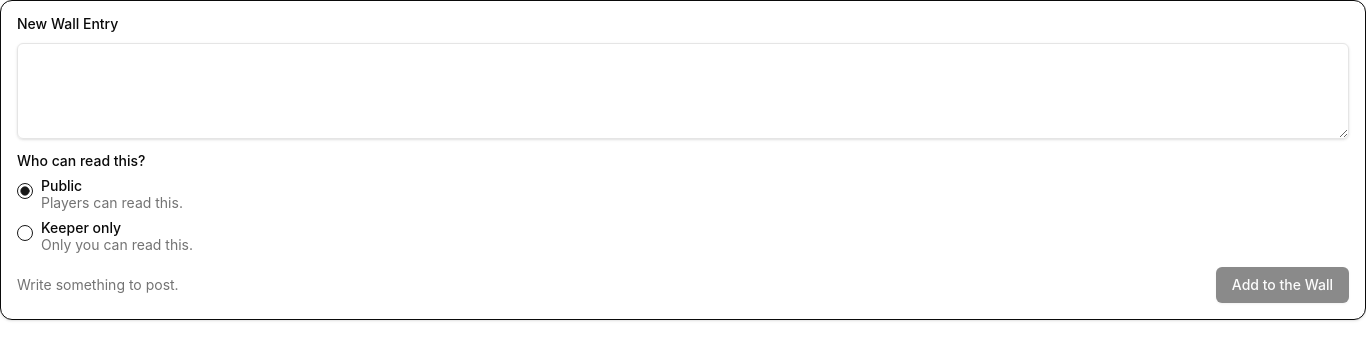
Scenario: WallEntryComposer › posts the Keeper entry with the chosen visibility, then clears, resets to Public, and keeps focus (WL-UX-2)
Type "  The butler is the cultist.  " into the text box labelled "New Wall Entry". click: (683, 91)
box: [17,43,1349,139]
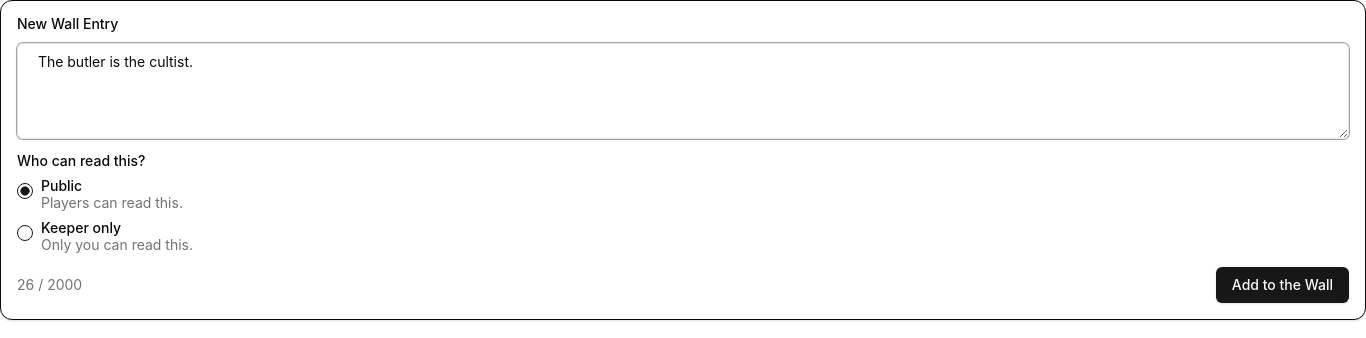
Click the radio button named "Keeper only" next to "Keeper only". click: (25, 233)
box: [17,225,33,241]
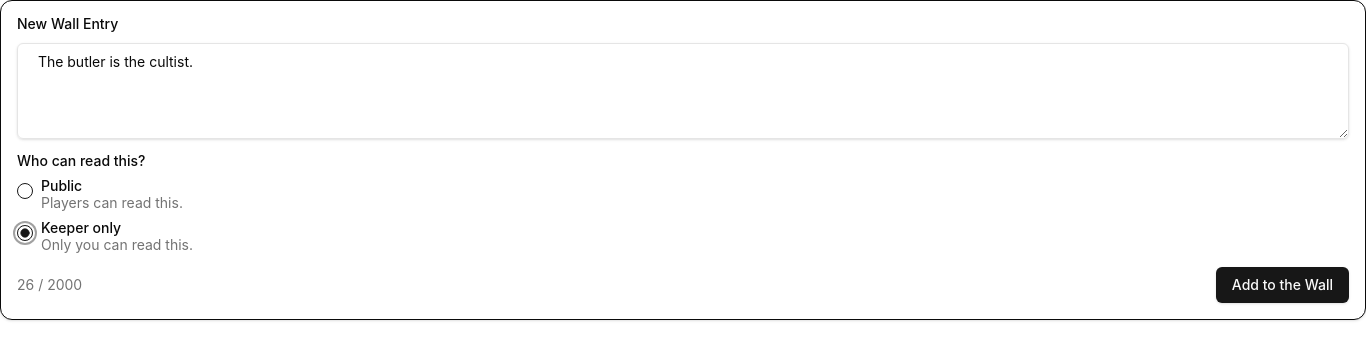
Click the button "Add to the Wall". click: (1282, 285)
box: [1216,267,1349,303]
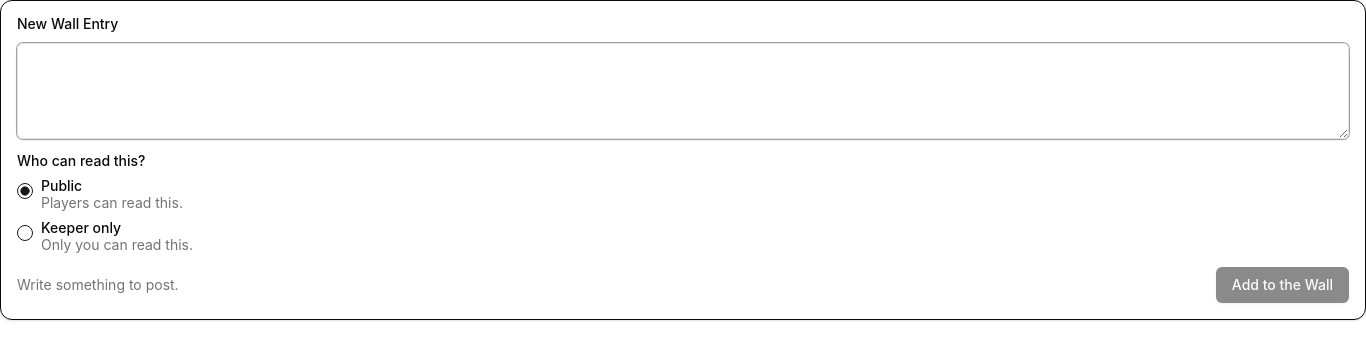
Result: the text box labelled "New Wall Entry" is empty at [17,43,1349,139]
Result: the radio button named "Public" next to "Public" is checked at [17,183,33,199]
